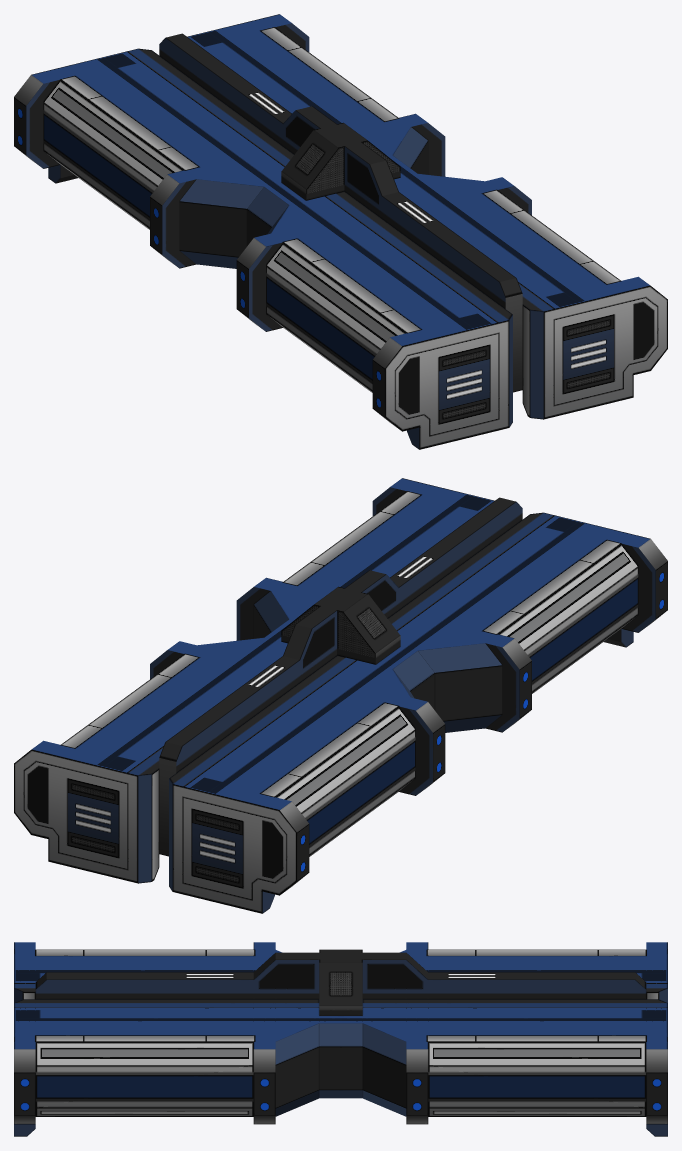
File: carriage_003a.fbx
3 views of the same model, one above another, from view 1: azimuth 30°, elevation 25°; view 2: azimuth 150°, elevation 25°; view 3: azimuth 270°, elevation 25° (orthographic). The views are drawn at different scales.
Parts seen in each view (by area): view 1: carriage_003; view 2: carriage_003; view 3: carriage_003.
Boxes of the visible parts, bbox=[...] form: carriage_003: bbox=[14, 14, 667, 449]; carriage_003: bbox=[14, 478, 667, 913]; carriage_003: bbox=[14, 942, 667, 1136].
Size of the model in its own units: 660 by 340 by 1500.
